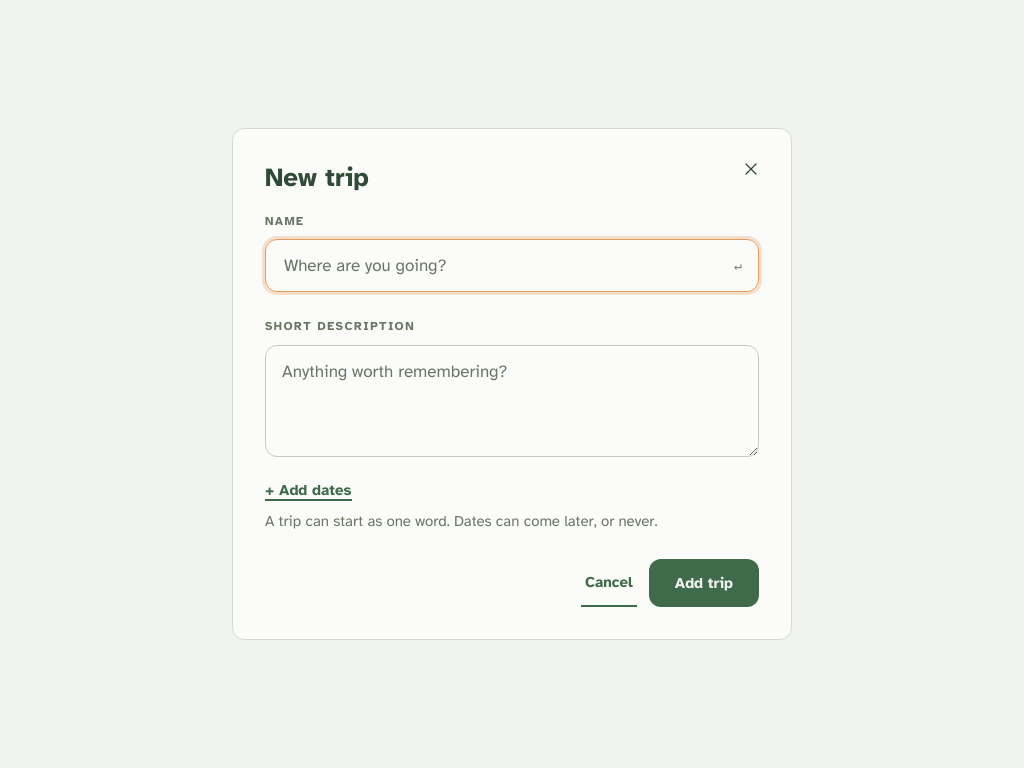
Test: NewTripModal › shows the error on blur once the user typed a name and cleared it
Type "Malaysia" into the field labelled "Name" at (502, 266), box [282,254,722,277]
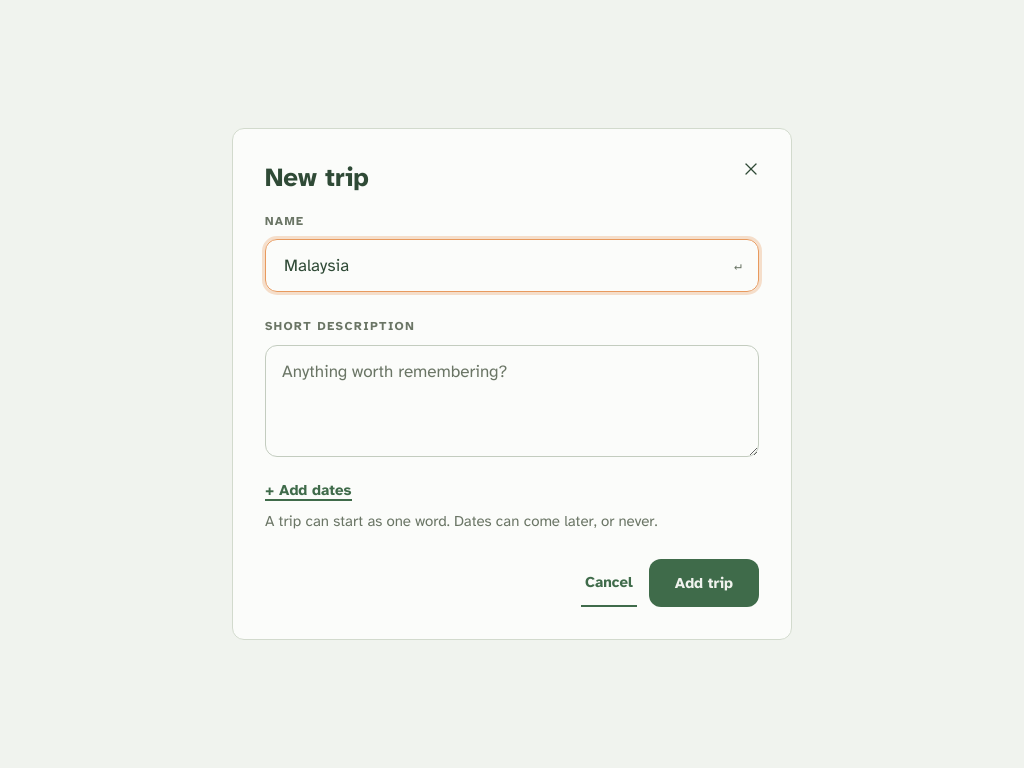
Clear the field labelled "Name" at (502, 266), box [282,254,722,277]
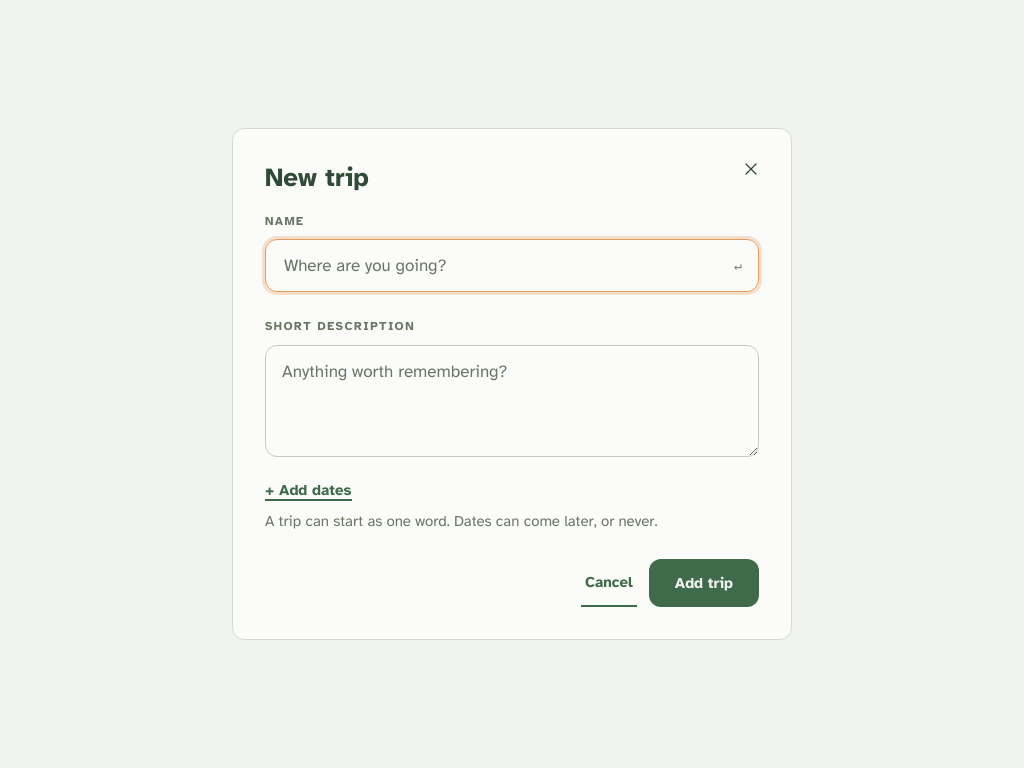
Click the text box labelled "Short description" at (512, 401), box [265,345,759,457]
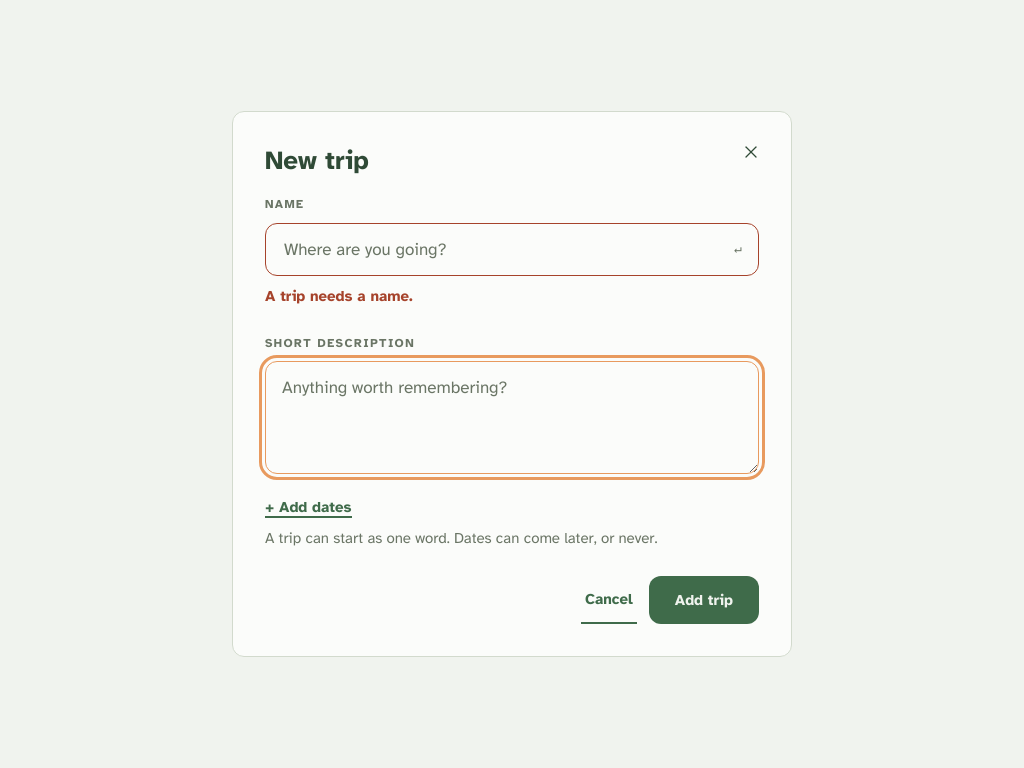
Expected: the message reads "A trip needs a name.", [265,287,413,305]
